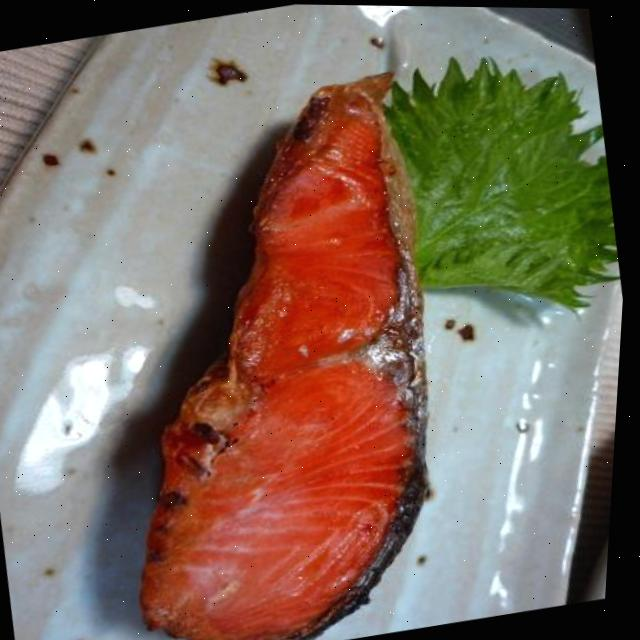熟制海鲜: (5, 2, 544, 640)
